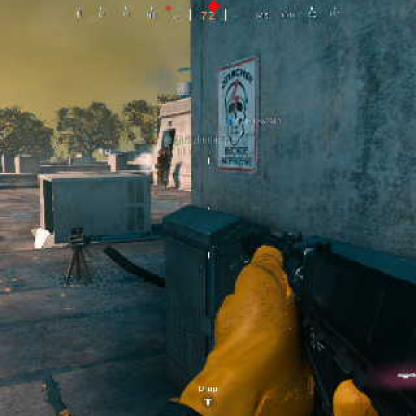enemy: (155, 148, 170, 186)
